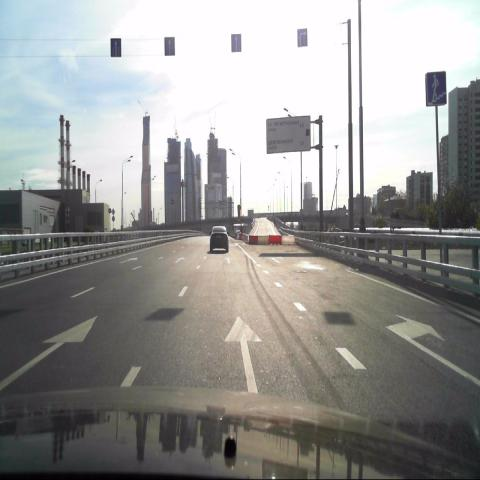6_6: (426, 71, 447, 107)
